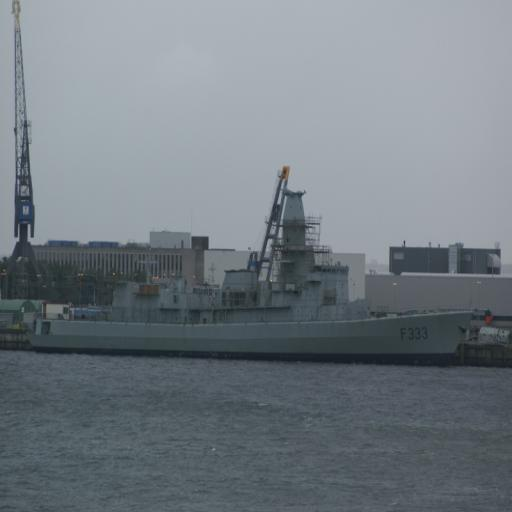Fragata: (22, 179, 480, 379)
